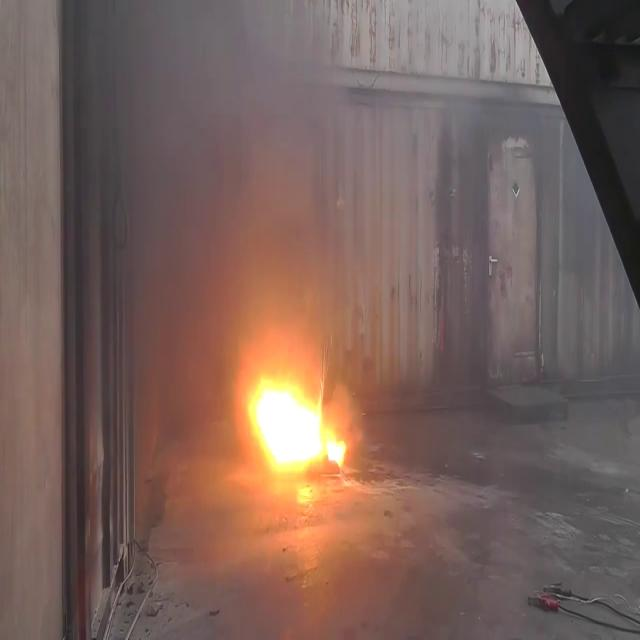Fire: (244, 361, 350, 486)
Smoke: (62, 0, 386, 325)
